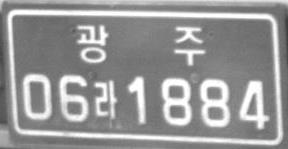0: (22, 74, 53, 120)
1: (125, 75, 152, 125)
4: (239, 79, 270, 129)
6: (58, 73, 89, 122)
8: (160, 76, 192, 126), (199, 77, 231, 127)
광주_D: (76, 24, 206, 66)
라: (93, 79, 117, 119)
